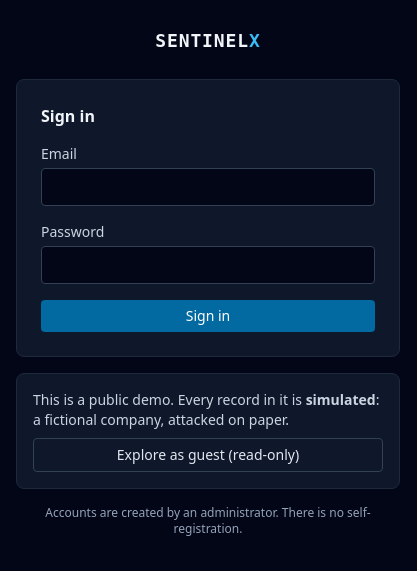
Test: A public demo's guest access › explains when guest access is unavailable
Click the button "Explore as guest (read-only)". click: point(208, 455)
box: [33,438,383,472]
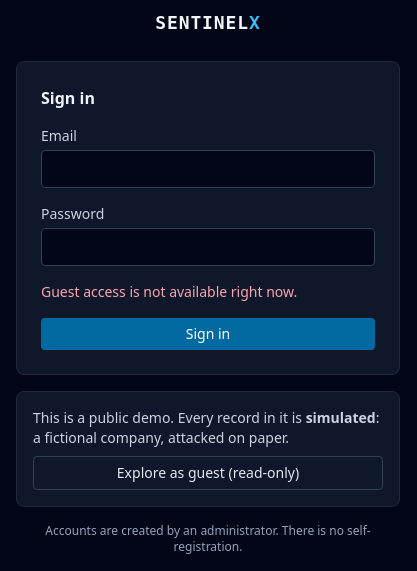
Expected: the text "Guest access is not available right now." is shown, [41,282,297,301]
